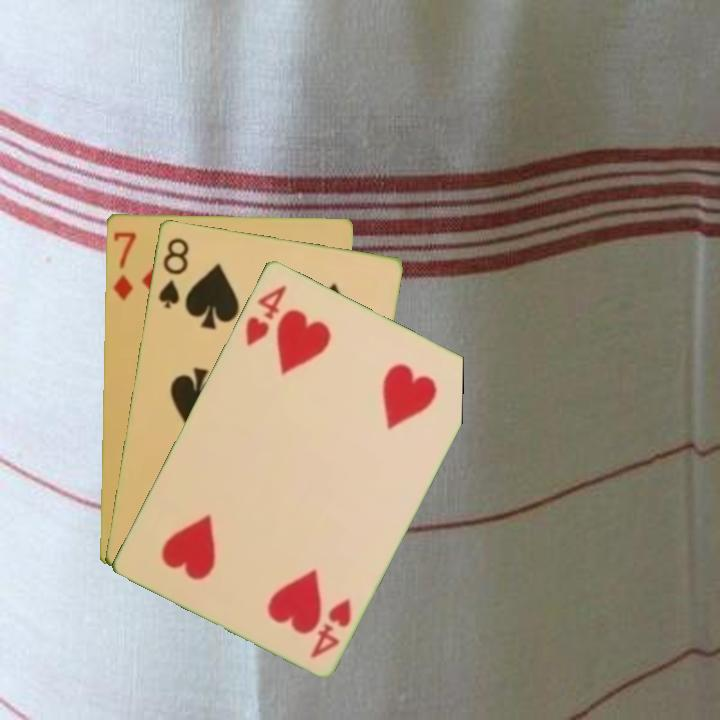4h: (241, 281, 290, 348), (306, 594, 354, 660)
7d: (109, 228, 138, 303)
8s: (154, 234, 192, 311)
